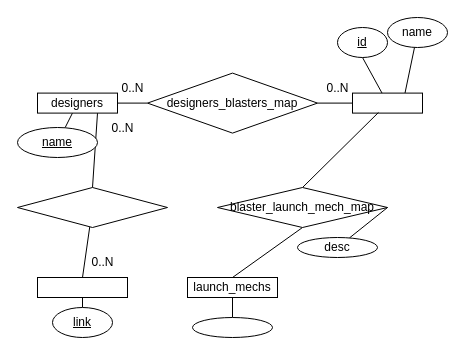
This 465x363 diagram has some shape labels left out. The shapes that lost their labels are listed below. From the top down, each one's box as (x1, y1, x2, y2) in pixels, then its label:
(352, 92, 422, 113): blasters
(16, 186, 168, 228): designers_links_map
(36, 276, 128, 298): designer_links
(192, 316, 272, 338): mech
